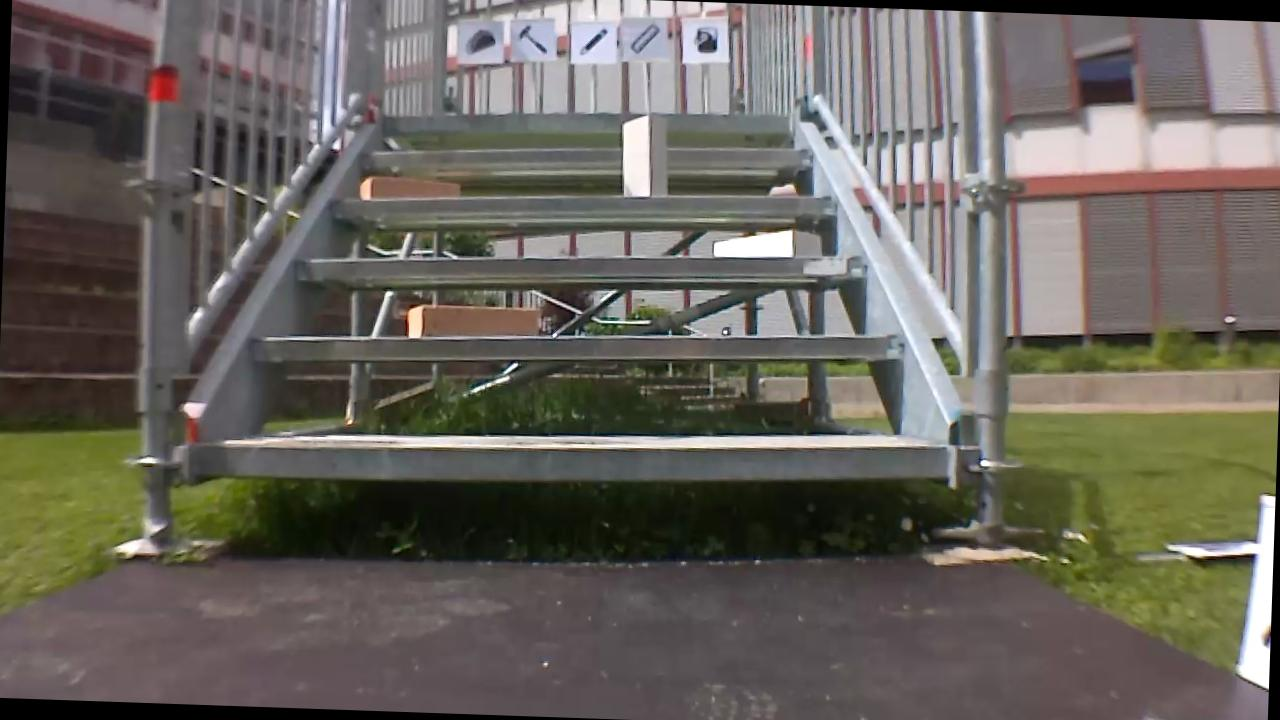brick: (405, 303, 537, 339), (619, 113, 669, 195), (712, 224, 820, 260), (360, 176, 458, 202)
bucket: (687, 21, 719, 56)
edge: (205, 418, 950, 493), (251, 314, 901, 380), (295, 237, 869, 293), (331, 179, 831, 227), (360, 134, 814, 183), (381, 101, 788, 142)
hammer: (511, 22, 553, 56)
pencil: (575, 23, 610, 59)
ruler: (625, 21, 661, 54)
steps: (188, 89, 973, 505)
taco: (459, 24, 498, 58)
